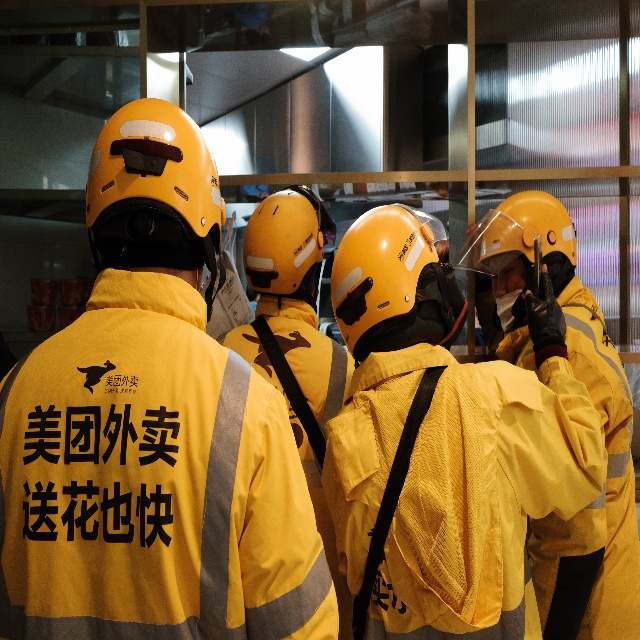Mascara: (493, 286, 525, 332)
Sin_guantes: (526, 262, 569, 350)
